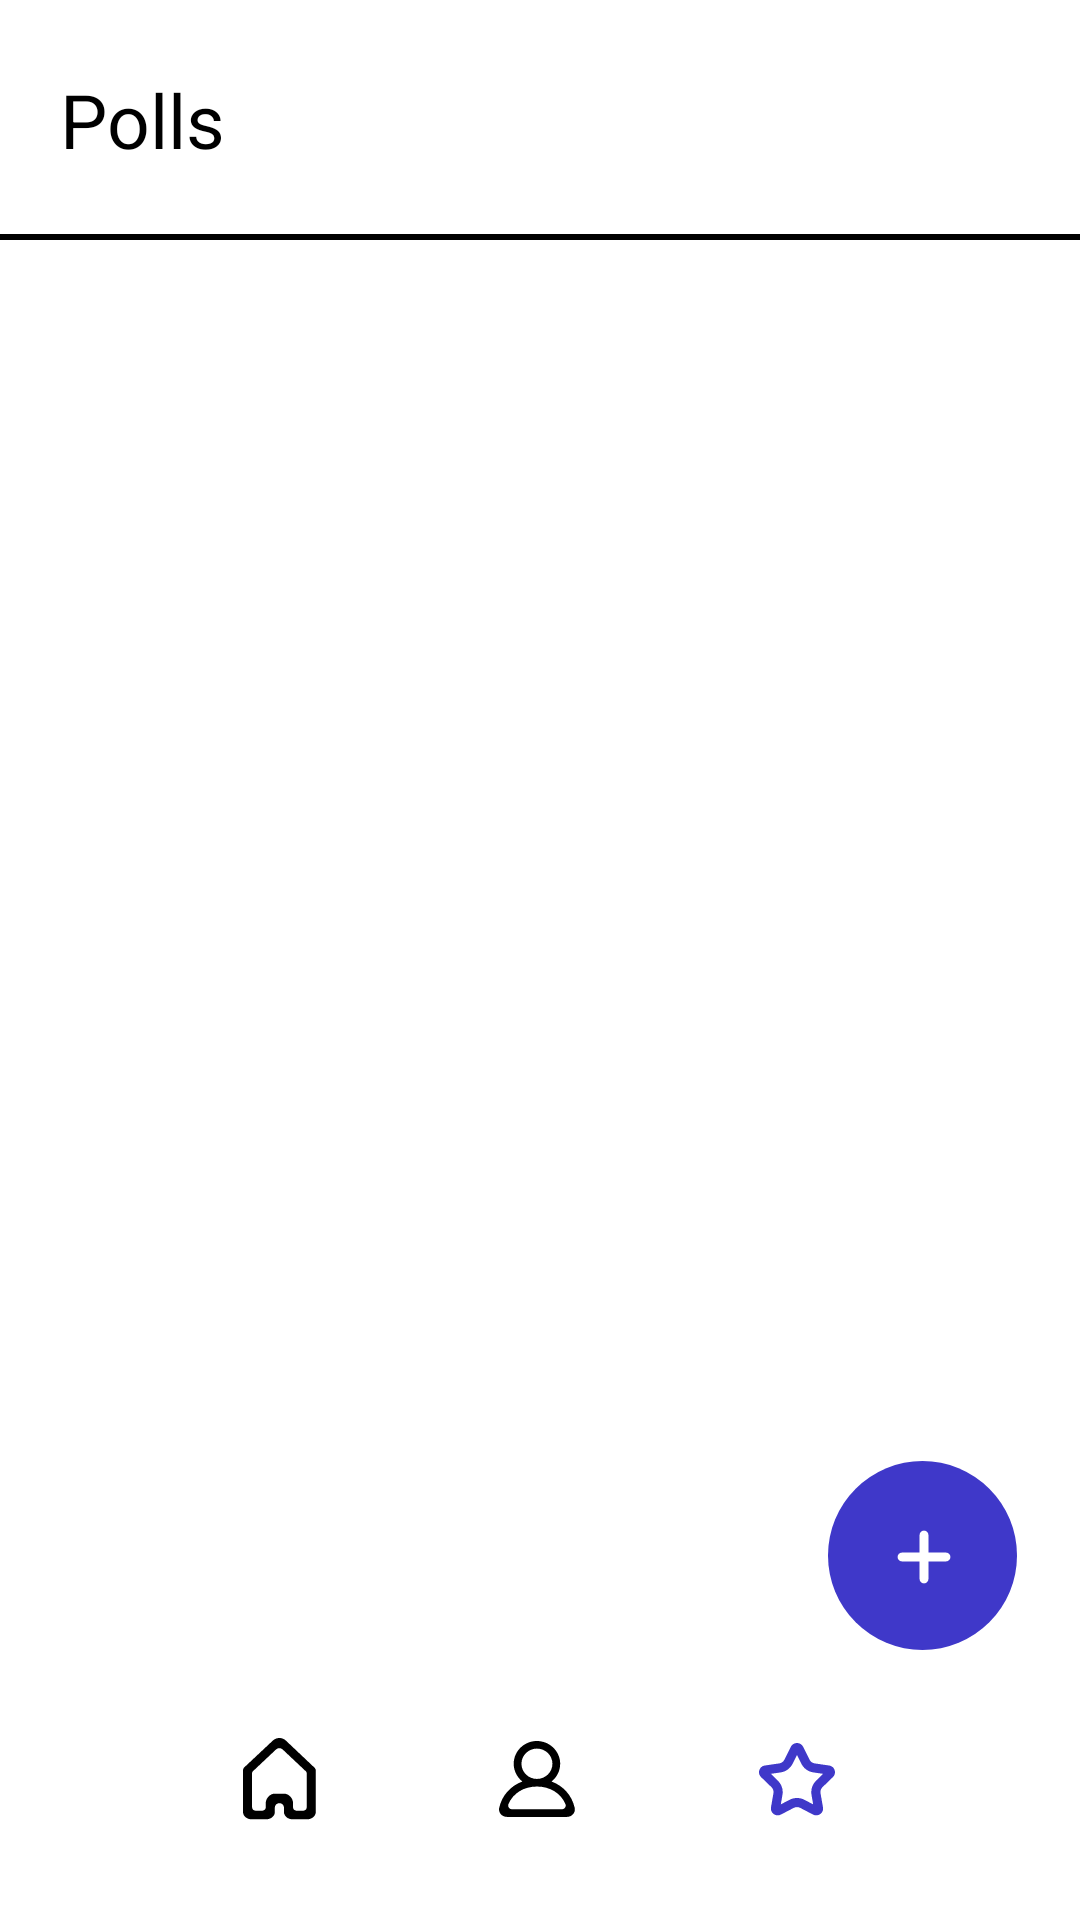

Icons on this 1080 x 1920 Android screen, each with its box as bbox=[x1, y1, x2, y2]:
home: bbox=[243, 1738, 316, 1820]
plus: bbox=[828, 1461, 1017, 1650]
